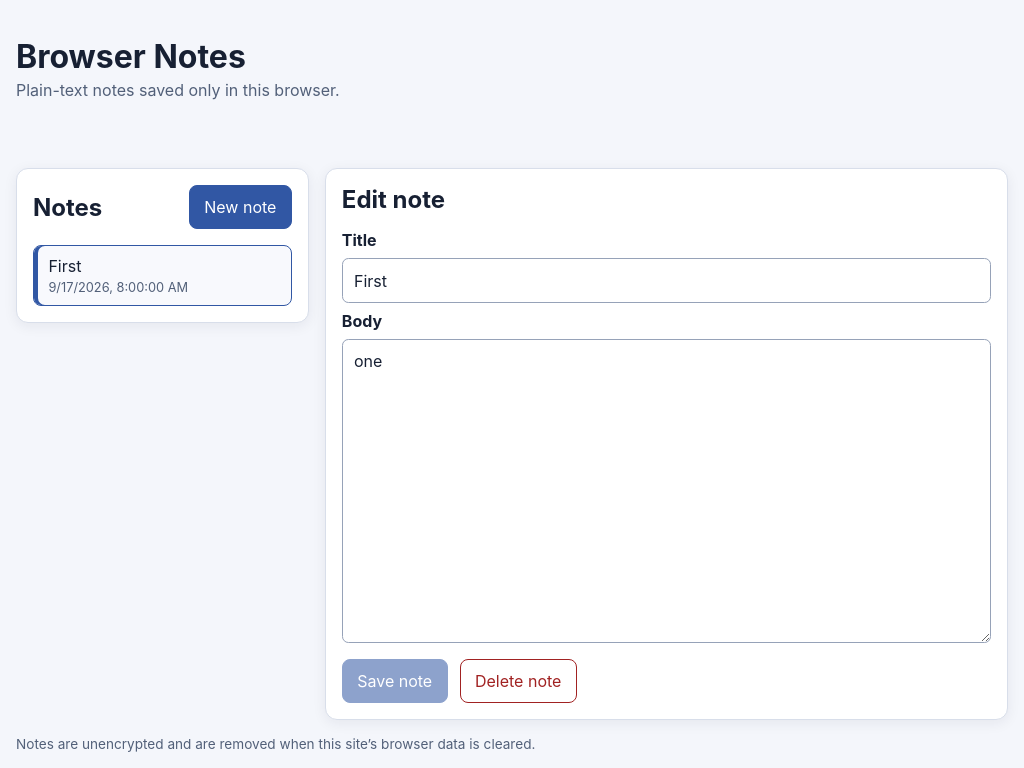
Test: Browser Notes application › keeps exact draft text and clears stale success when a save fails
Type " unsaved" into the text box labelled "Body" at (666,491), box [342,339,991,643]
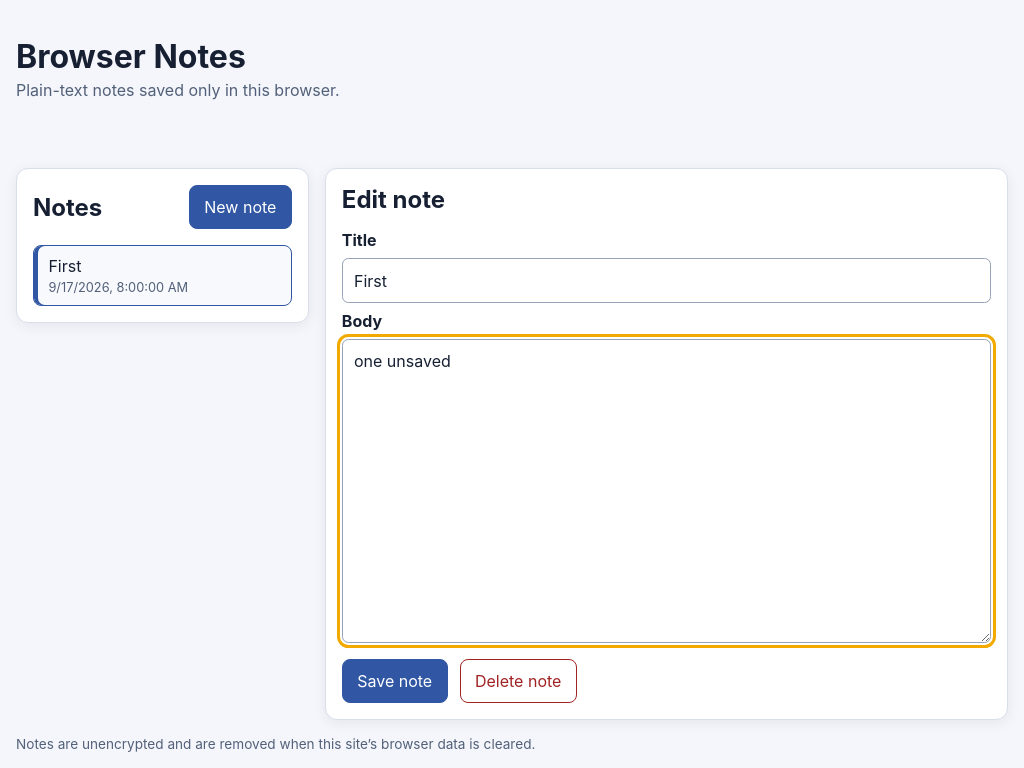
Click the button "Save note" at (395,681), box [342,659,448,703]
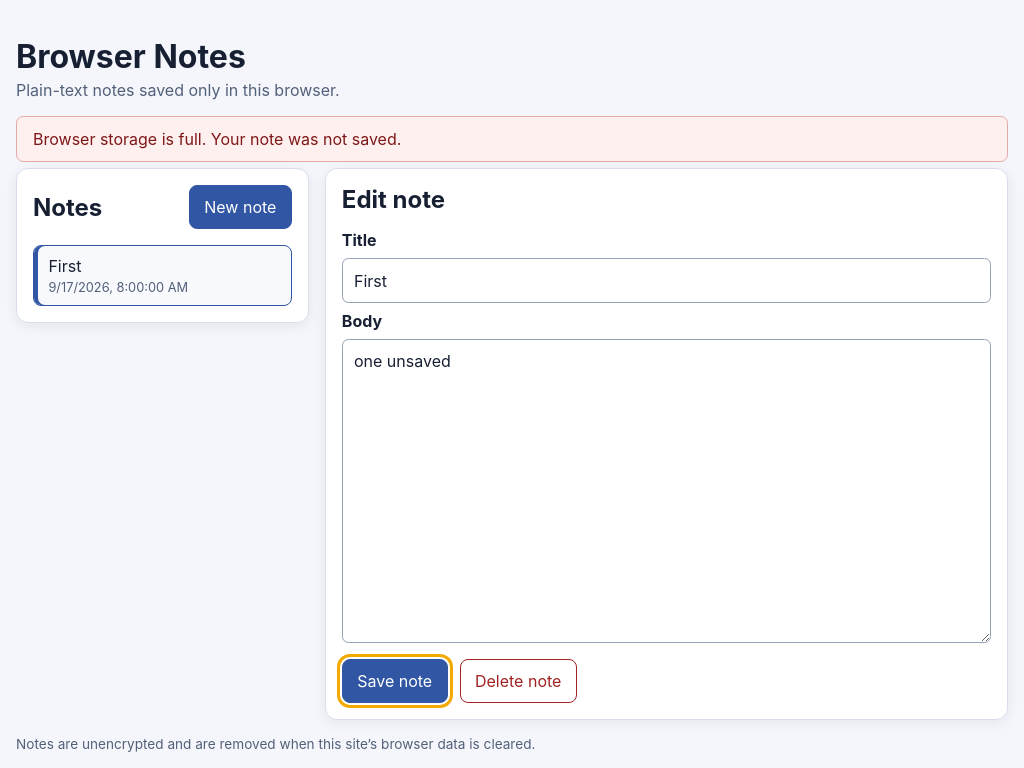
Now the text box labelled "Body" holds "one unsaved", box [342,339,991,643]
Now the message reads "Browser storage is full. Your note was not saved.", box [33,129,401,149]
